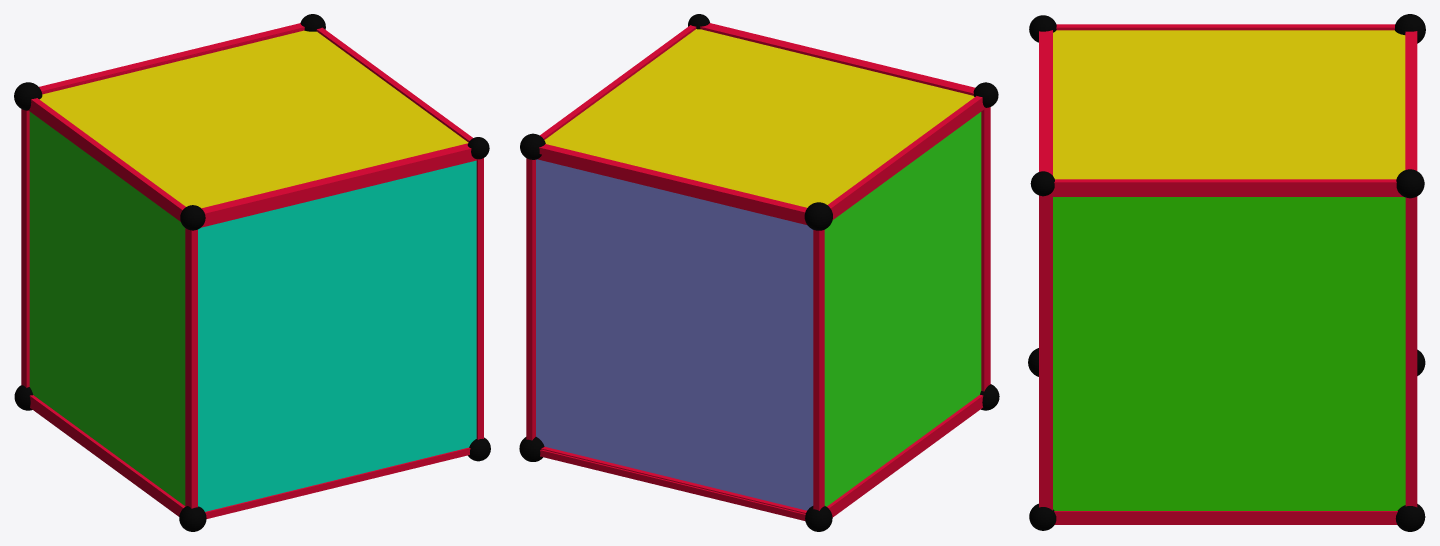
The model's file is kubus.glb.
3 views of the same model, side by side, from view 1: azimuth 30°, elevation 25°; view 2: azimuth 150°, elevation 25°; view 3: azimuth 270°, elevation 25° (orthographic). The views are drawn at different scales.
Parts seen in each view (by area): view 1: Cube.009, Cube.007, Cube.011, Cube.042, Cube.001, Cube.041, Cube.045, Cube.005, Cube.043, Cube.006, Cube.004, Sphere.007 (+1 smaller); view 2: Cube.008, Cube.007, Cube.011, Cube.041, Cube.042, Cube.001, Cube.045, Cube.006, Cube.005, Cube.043, Cube.004, Sphere (+1 smaller); view 3: Cube.046, Cube.011, Cube.001, Cube.041, Cube.042, Cube.043, Cube.045, Cube.005, Cube.006, Cube.004, Sphere.001, Sphere.003 (+4 smaller).
Part boxes in pixels (box(x1,y1,x2,y2)): Cube.009: box(198, 160, 476, 511); Cube.007: box(29, 111, 185, 505); Cube.011: box(39, 30, 468, 208); Cube.042: box(185, 143, 483, 518); Cube.001: box(28, 29, 477, 227); Cube.041: box(21, 23, 304, 387); Cube.045: box(31, 27, 472, 213); Cube.005: box(188, 146, 477, 512); Cube.043: box(29, 395, 185, 516); Cube.006: box(22, 109, 25, 385); Cube.004: box(30, 400, 180, 514); Sphere.007: box(179, 506, 206, 531); Cube.008: box(536, 159, 813, 510); Cube.007: box(824, 112, 981, 506); Cube.011: box(544, 29, 974, 207); Cube.041: box(526, 144, 824, 520); Cube.042: box(700, 23, 987, 391); Cube.001: box(538, 29, 985, 224); Cube.045: box(540, 25, 982, 210); Cube.006: box(533, 159, 823, 513); Cube.005: box(707, 23, 990, 386); Cube.043: box(827, 395, 983, 517); Cube.004: box(830, 400, 982, 515); Sphere: box(804, 202, 832, 230); Cube.046: box(1053, 197, 1405, 510); Cube.011: box(1053, 30, 1405, 179); Cube.001: box(1044, 28, 1403, 196); Cube.041: box(1405, 31, 1417, 507); Cube.042: box(1039, 30, 1052, 510); Cube.043: box(1054, 511, 1397, 524); Cube.045: box(1054, 24, 1405, 188); Cube.005: box(1039, 31, 1046, 507); Cube.006: box(1407, 197, 1414, 506); Cube.004: box(1056, 515, 1395, 522); Sphere.001: box(1396, 169, 1424, 198); Sphere.003: box(1395, 504, 1425, 531).
Size of the model in its own units: 2.83 by 2.85 by 2.84.
